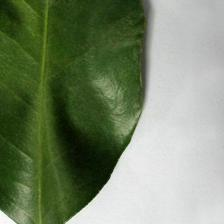healthy: (1, 0, 147, 224)
